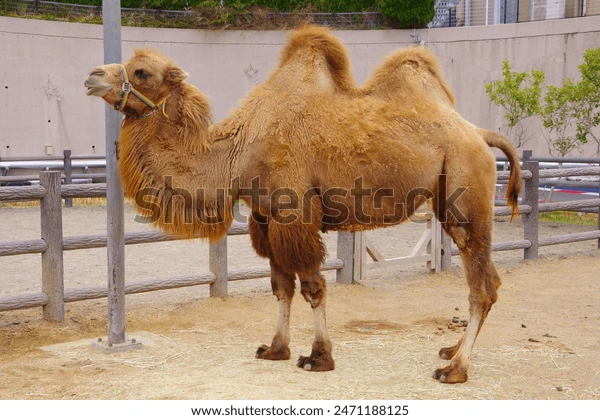camel: (80, 26, 526, 391)
